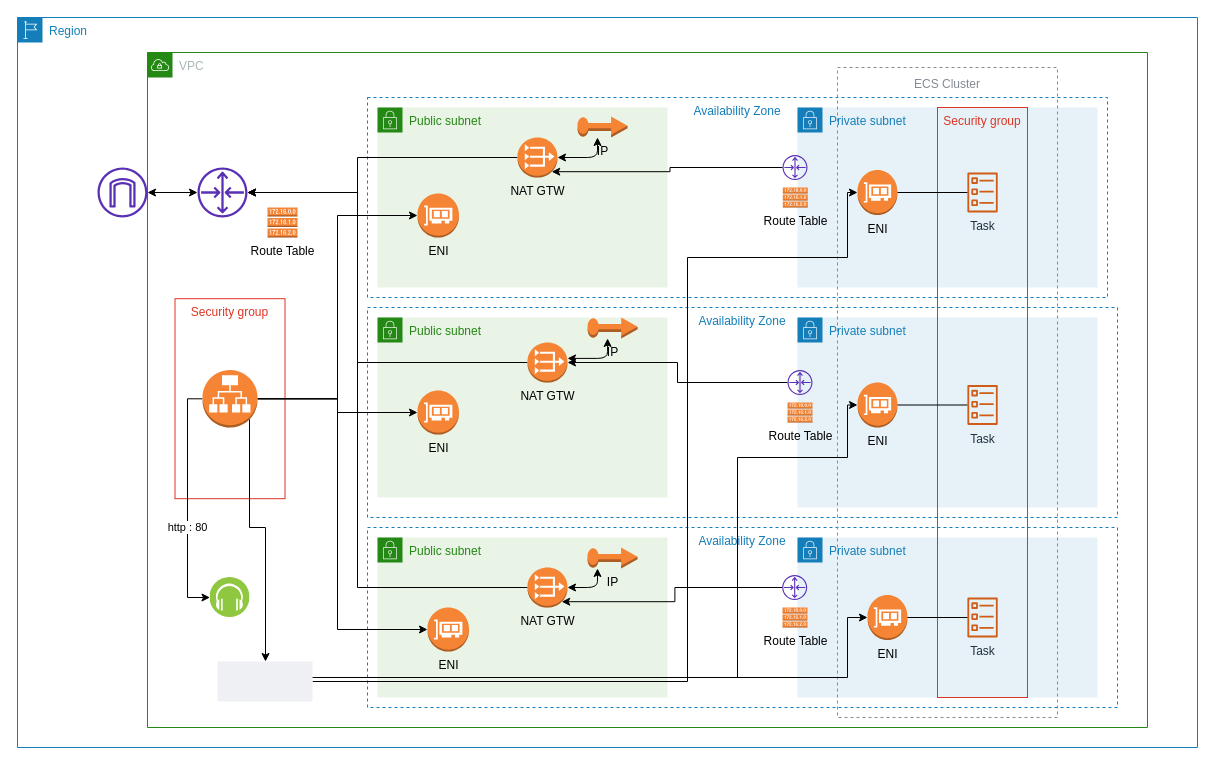
Image size: 1215x765. Some labels were removed from this diagram. The shapes that lost their labels are listed below. From the top down, each one's centre as x and y in pixels, then its label:
(x=122, y=192): IGW
(x=222, y=192): Router
(x=230, y=398): ALB
(x=230, y=597): Listiner
(x=264, y=681): Targer group
